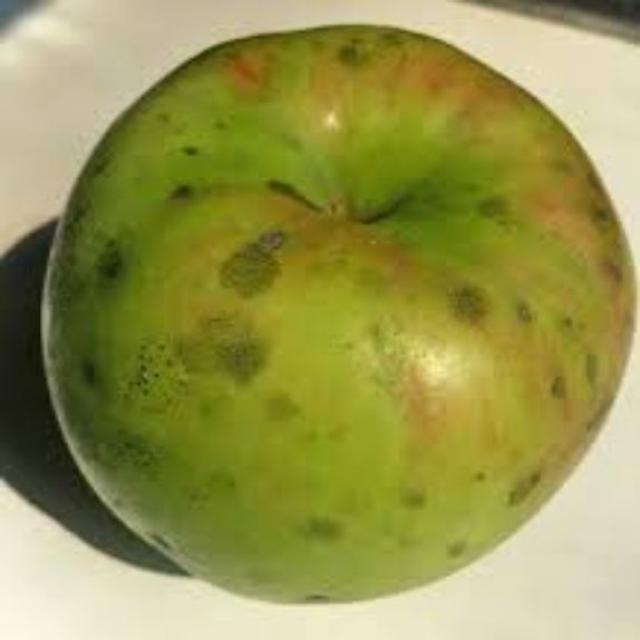Rotten Apple: (29, 17, 624, 615)
